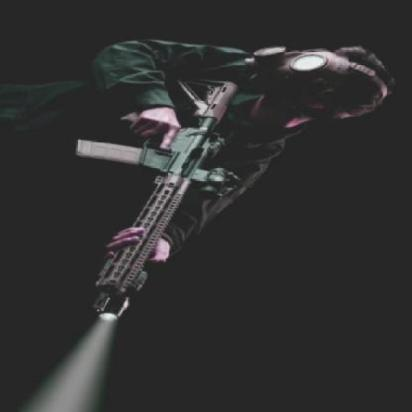Gun: (76, 83, 243, 320)
